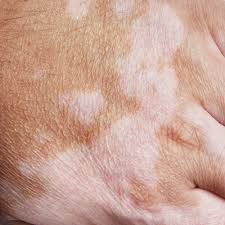vitiligo: (37, 58, 194, 210)
